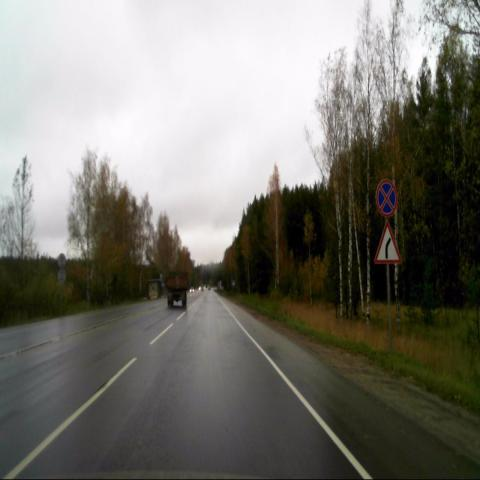1_11: (374, 220, 403, 265)
3_27: (374, 178, 398, 219)
